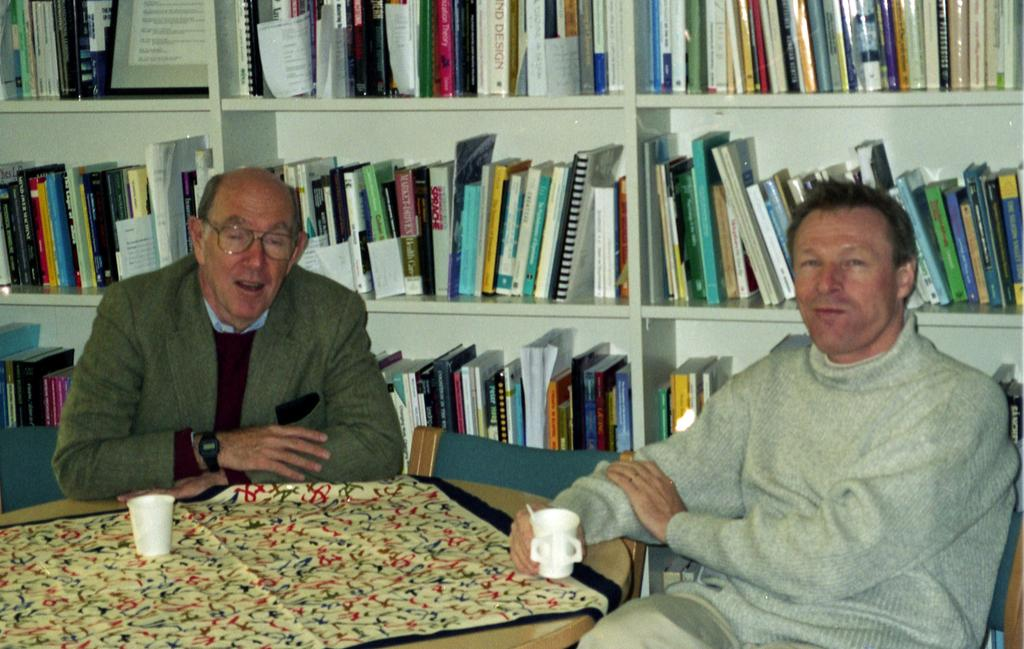Book: (235, 129, 624, 305), (232, 0, 630, 101), (640, 126, 856, 308), (0, 129, 219, 298), (648, 0, 1023, 95), (854, 130, 1023, 308), (369, 345, 515, 466), (511, 324, 628, 460), (0, 0, 110, 100), (0, 323, 73, 438), (653, 350, 735, 442), (637, 543, 706, 602), (993, 358, 1023, 454)
